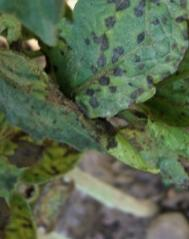Tomato leaf bacterial spot: (37, 10, 189, 168), (0, 24, 141, 171), (104, 37, 189, 165)
